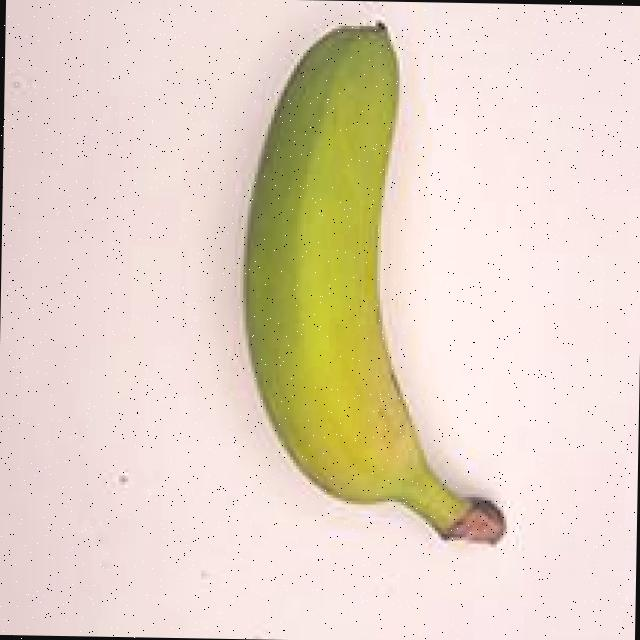Unripe: (178, 6, 536, 580)
